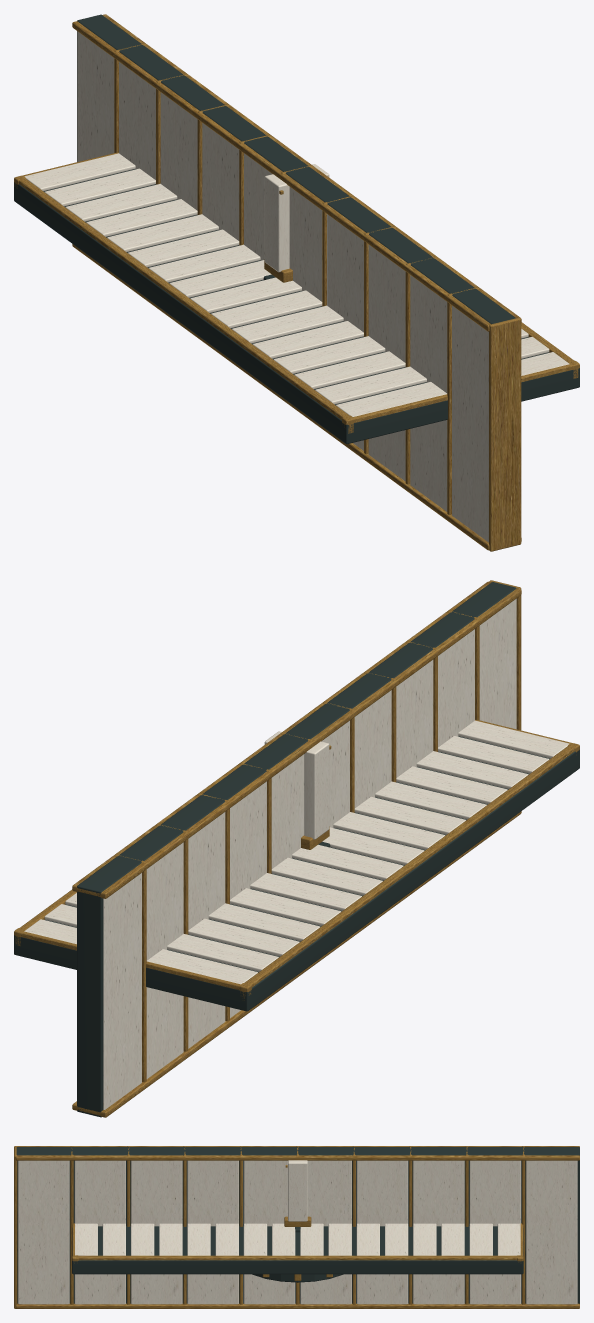
Rendered from sunseed.glb.
The picture shows the model from 3 angles, top to bottom: view 1: azimuth 30°, elevation 25°; view 2: azimuth 150°, elevation 25°; view 3: azimuth 270°, elevation 25°; orthographic projection. The views are drawn at different scales.
Parts seen in each view (by area): view 1: DeckLoadPlate, ScreenRecess, IvoryScreen, ScreenRib, IvoryScreen.001, ScreenEdge.001, IvoryScreen.002, IvoryScreen.009, DeckRail, IvoryScreen.007, IvoryScreen.006, IvoryScreen.003 (+24 smaller); view 2: ScreenRecess, DeckLoadPlate, IvoryScreen.009, IvoryScreen.008, ScreenEdge.001, IvoryScreen.007, IvoryScreen, DeckRail, IvoryScreen.003, IvoryScreen.002, IvoryScreen.006, IvoryScreen.001 (+24 smaller); view 3: DeckLoadPlate, ScreenRecess, IvoryScreen, IvoryScreen.009, IvoryScreen.006, IvoryScreen.008, IvoryScreen.002, IvoryScreen.003, IvoryScreen.007, IvoryScreen.001, IvoryScreen.004, IvoryScreen.005 (+30 smaller).
Boxes of the visible parts, bbox=[...] form: DeckLoadPlate: bbox=[14, 169, 579, 443]; ScreenRecess: bbox=[77, 14, 515, 324]; IvoryScreen: bbox=[452, 305, 488, 542]; ScreenRib: bbox=[489, 317, 521, 551]; IvoryScreen.001: bbox=[410, 275, 447, 511]; ScreenEdge.001: bbox=[72, 14, 521, 331]; IvoryScreen.002: bbox=[368, 245, 405, 481]; IvoryScreen.009: bbox=[77, 31, 114, 161]; DeckRail: bbox=[16, 175, 353, 433]; IvoryScreen.007: bbox=[160, 92, 197, 210]; IvoryScreen.006: bbox=[202, 123, 239, 240]; IvoryScreen.003: bbox=[327, 214, 363, 450]; ScreenRecess: bbox=[77, 582, 516, 1117]; DeckLoadPlate: bbox=[14, 736, 579, 1011]; IvoryScreen.009: bbox=[103, 873, 141, 1109]; IvoryScreen.008: bbox=[146, 842, 183, 1078]; ScreenEdge.001: bbox=[72, 581, 521, 898]; IvoryScreen.007: bbox=[188, 812, 225, 1048]; IvoryScreen: bbox=[479, 598, 516, 729]; DeckRail: bbox=[240, 743, 577, 1000]; IvoryScreen.003: bbox=[354, 690, 391, 808]; IvoryScreen.002: bbox=[396, 660, 433, 777]; IvoryScreen.006: bbox=[230, 781, 266, 1017]; IvoryScreen.001: bbox=[438, 629, 474, 747]; DeckLoadPlate: bbox=[72, 1226, 523, 1274]; ScreenRecess: bbox=[16, 1147, 579, 1303]; IvoryScreen: bbox=[18, 1160, 69, 1304]; IvoryScreen.009: bbox=[526, 1160, 577, 1304]; IvoryScreen.006: bbox=[356, 1160, 408, 1304]; IvoryScreen.008: bbox=[469, 1160, 521, 1304]; IvoryScreen.002: bbox=[131, 1160, 182, 1304]; IvoryScreen.003: bbox=[187, 1160, 238, 1304]; IvoryScreen.007: bbox=[413, 1160, 464, 1304]; IvoryScreen.001: bbox=[74, 1160, 125, 1304]; IvoryScreen.004: bbox=[243, 1160, 295, 1304]; IvoryScreen.005: bbox=[300, 1160, 351, 1304].
Size of the model in its own units: 6.5 by 6 by 20.06.
Materials: 3 (2 with a texture image).
